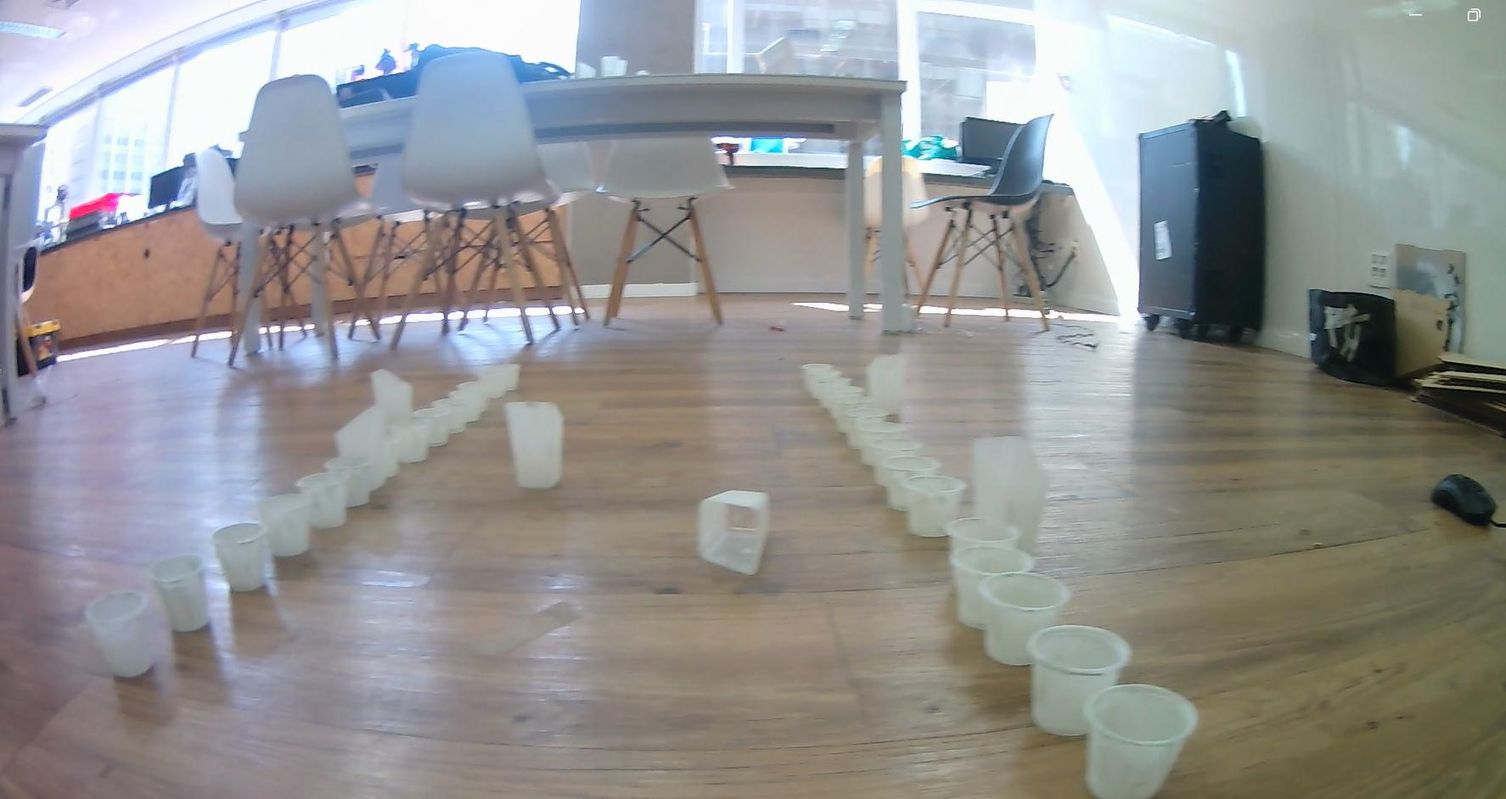erva_daninha: (968, 431, 1042, 545), (697, 489, 771, 576), (503, 401, 565, 489), (334, 407, 386, 490), (371, 369, 415, 460), (869, 355, 910, 423), (924, 534, 950, 586)
planta: (1080, 682, 1200, 799), (1024, 623, 1132, 737), (976, 570, 1072, 667), (947, 545, 1033, 629), (83, 589, 159, 679), (148, 553, 210, 633), (211, 522, 267, 593), (904, 475, 966, 538), (945, 517, 1020, 564), (883, 455, 942, 511), (261, 494, 312, 557), (295, 472, 349, 528), (323, 456, 371, 508), (873, 439, 922, 488), (861, 425, 912, 467), (385, 418, 430, 463), (849, 413, 900, 450), (413, 405, 451, 446), (836, 403, 878, 433), (434, 397, 464, 434), (447, 391, 481, 422), (476, 367, 510, 397), (801, 363, 840, 387), (464, 381, 494, 411), (809, 373, 843, 399), (830, 393, 870, 414), (822, 383, 862, 404)
